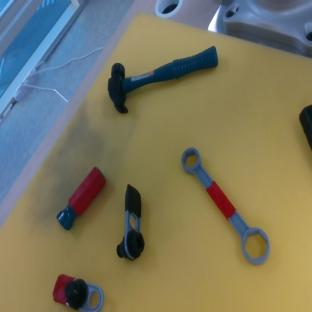part_1_bad: (112, 183, 145, 261)
part_1_good: (49, 272, 108, 312)
part_2_bad: (299, 105, 312, 150)
part_2_good: (53, 165, 111, 231)
part_3_good: (169, 143, 278, 269)
